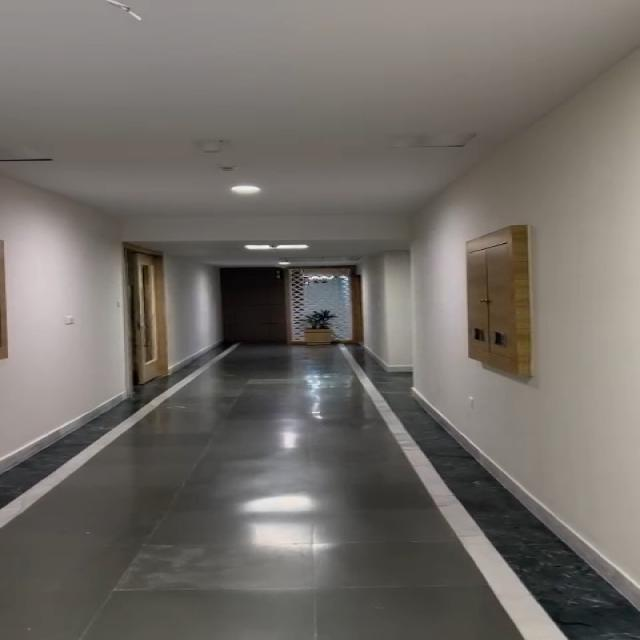door: (222, 269, 364, 351), (126, 240, 176, 392)
floor: (46, 414, 485, 640)
furniture: (294, 310, 336, 351)
wall: (379, 39, 640, 496), (0, 12, 134, 450)
